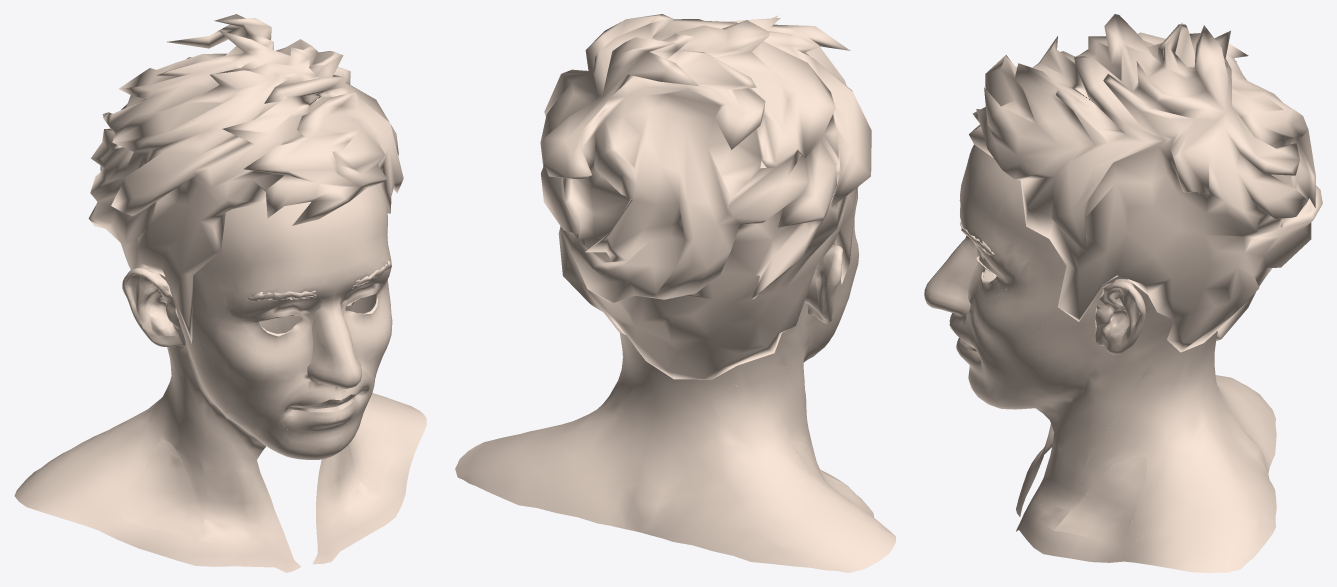
The model's file is skin.glb.
3 renders of one model, left to right at view 1: azimuth 30°, elevation 25°; view 2: azimuth 150°, elevation 25°; view 3: azimuth 270°, elevation 25°, orthographic. The views are drawn at different scales.
Visible parts, largest first — view 1: Hairs of head.001, Sternocleidomastoid region.r.001, Frontal region.r.001, Posterior region of neck.r.001, Lateral region of neck.r.001, Greater supraclavicular fossa.r.001, Buccal region.r.001, Sternocleidomastoid region.l.001, Frontal region.l.001, Nasal region.r.001, Orbital region.r.001, Lateral region of neck.l.001 (+18 smaller); view 2: Hairs of head.001, Posterior region of neck.r.001, Posterior region of neck.l.001, Lateral region of neck.r.001, Sternocleidomastoid region.r.001, Parotideomasseteric region.r.001, Greater supraclavicular fossa.r.001, Helix.r.001; view 3: Hairs of head.001, Posterior region of neck.l.001, Lateral region of neck.l.001, Sternocleidomastoid region.l.001, Frontal region.l.001, Buccal region.l.001, Greater supraclavicular fossa.l.001, Parotideomasseteric region.l.001, Posterior region of neck.r.001, Nasal region.l.001, Zygomatic region.l.001, Temporal region.l.001 (+9 smaller).
Part boxes in pixels (x1,y1,x2,y2): Hairs of head.001: [88, 14, 403, 343]; Sternocleidomastoid region.r.001: [167, 345, 300, 572]; Frontal region.r.001: [209, 201, 335, 325]; Posterior region of neck.r.001: [14, 283, 179, 529]; Lateral region of neck.r.001: [98, 359, 208, 565]; Greater supraclavicular fossa.r.001: [120, 439, 204, 541]; Buccal region.r.001: [213, 352, 306, 455]; Sternocleidomastoid region.l.001: [313, 445, 395, 564]; Frontal region.l.001: [327, 184, 391, 294]; Nasal region.r.001: [307, 295, 353, 388]; Orbital region.r.001: [239, 296, 322, 350]; Lateral region of neck.l.001: [274, 287, 414, 516]; Hairs of head.001: [540, 14, 871, 379]; Posterior region of neck.r.001: [639, 370, 895, 572]; Posterior region of neck.l.001: [455, 333, 666, 531]; Lateral region of neck.r.001: [729, 342, 874, 517]; Sternocleidomastoid region.r.001: [779, 319, 810, 426]; Parotideomasseteric region.r.001: [806, 269, 851, 351]; Greater supraclavicular fossa.r.001: [791, 441, 856, 504]; Helix.r.001: [821, 245, 842, 319]; Hairs of head.001: [969, 14, 1322, 352]; Posterior region of neck.l.001: [1124, 331, 1276, 572]; Lateral region of neck.l.001: [1043, 335, 1202, 562]; Sternocleidomastoid region.l.001: [1016, 329, 1170, 553]; Frontal region.l.001: [960, 146, 1041, 294]; Buccal region.l.001: [970, 309, 1047, 405]; Greater supraclavicular fossa.l.001: [1054, 456, 1146, 542]; Parotideomasseteric region.l.001: [1035, 314, 1105, 396]; Posterior region of neck.r.001: [1215, 375, 1276, 473]; Nasal region.l.001: [924, 235, 977, 316]; Zygomatic region.l.001: [989, 287, 1091, 331]; Temporal region.l.001: [1028, 235, 1066, 297].
Bounding box in the file's own units: 0.2915 × 0.3403 × 0.2487.
